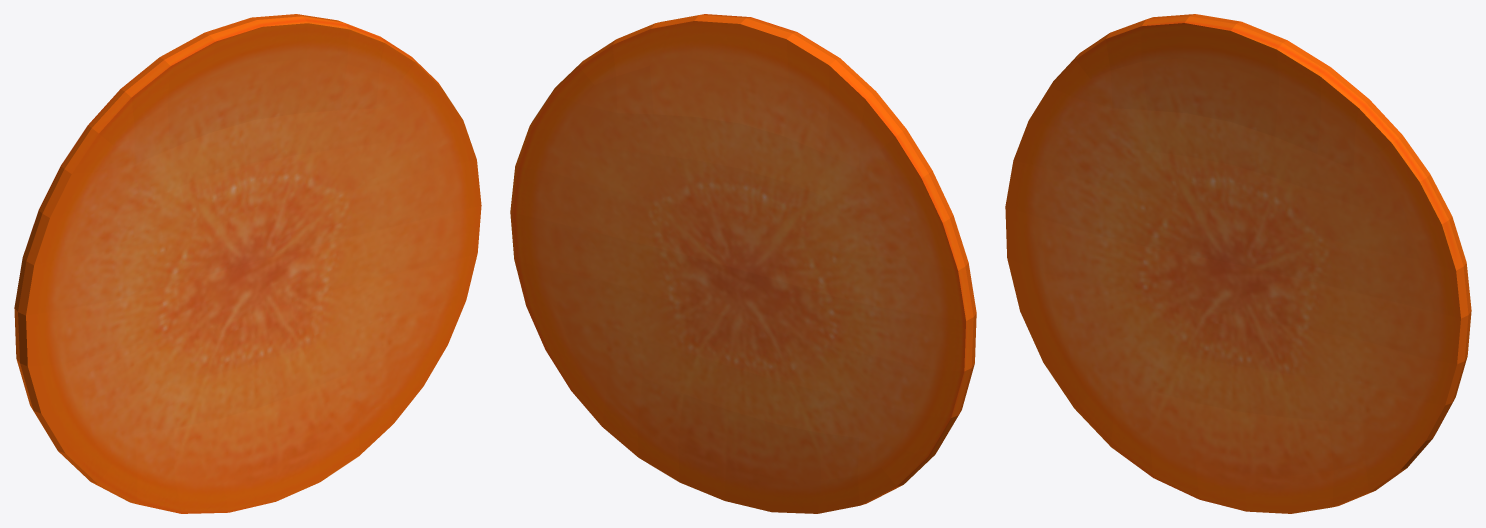
The model's file is Salami_1.fbx.
3 renders of one model, left to right at view 1: azimuth 30°, elevation 25°; view 2: azimuth 150°, elevation 25°; view 3: azimuth 330°, elevation 25°, orthographic.
Parts seen in each view (by area): view 1: Salami_1; view 2: Salami_1; view 3: Salami_1.
Part boxes in pixels (x1=…): Salami_1: x1=14, y1=14, x2=481, y2=513; Salami_1: x1=510, y1=14, x2=976, y2=513; Salami_1: x1=1005, y1=14, x2=1471, y2=513.
Size of the model in its own units: 0.0363 by 0.0365 by 0.00235.
Materials: 1 (1 with a texture image).
